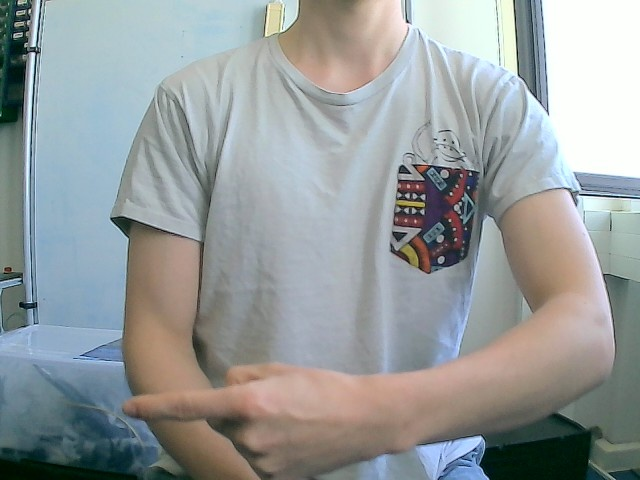right: (121, 360, 393, 479)
